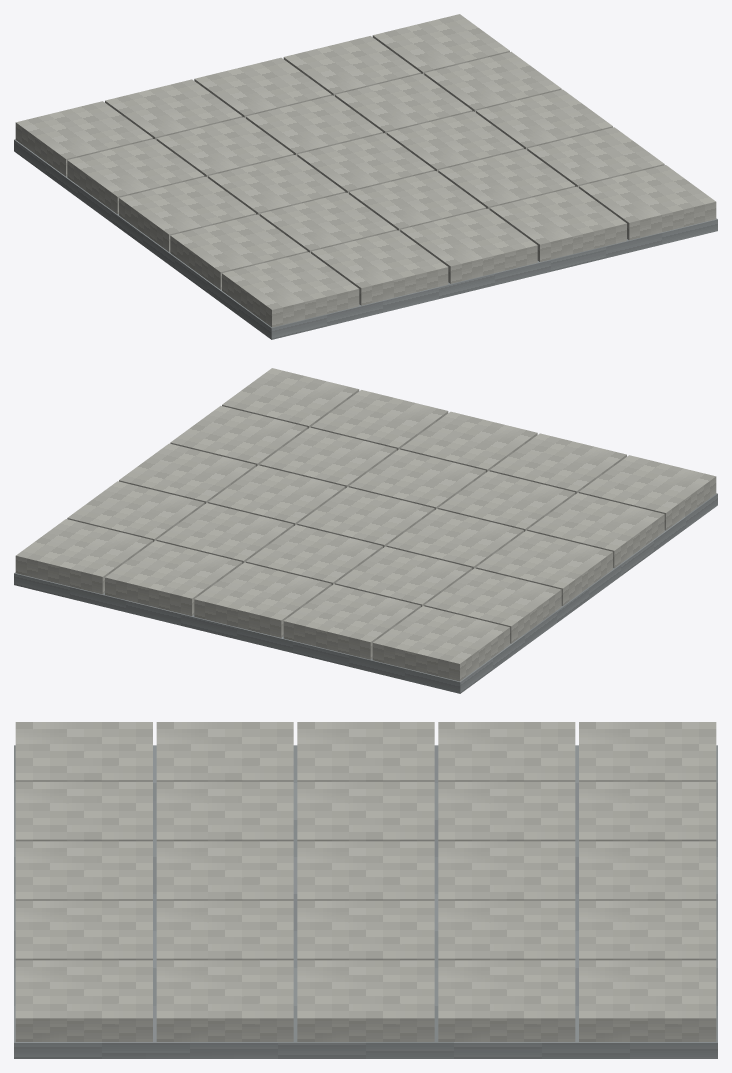
Rendered from dungeon-room-builder-floor-cobbled-fb9805b5__25733.glb.
3 views of the same model, one above another, from view 1: azimuth 30°, elevation 25°; view 2: azimuth 150°, elevation 25°; view 3: azimuth 270°, elevation 25° (orthographic). The views are drawn at different scales.
Visible parts, largest first — view 1: floor-cobbled; view 2: floor-cobbled; view 3: floor-cobbled.
Boxes of the visible parts, bbox=[...] form: floor-cobbled: bbox=[14, 14, 717, 339]; floor-cobbled: bbox=[14, 368, 717, 693]; floor-cobbled: bbox=[14, 722, 717, 1058].
Size of the model in its own units: 4 by 0.2501 by 4.
Materials: 2 (2 with a texture image).
